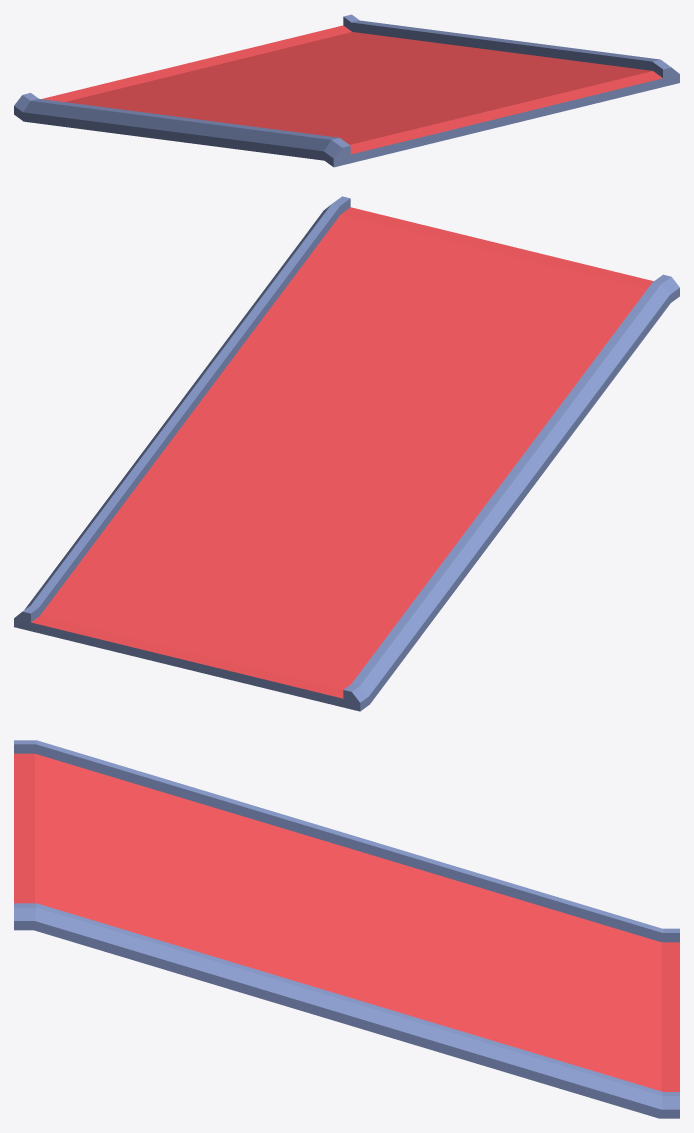
Rendered from tile-ramp.glb.
3 renders of one model, top to bottom at view 1: azimuth 30°, elevation 25°; view 2: azimuth 150°, elevation 25°; view 3: azimuth 270°, elevation 25°, orthographic. The views are drawn at different scales.
Visible parts, largest first — view 1: tile-ramp; view 2: tile-ramp; view 3: tile-ramp.
Boxes of the visible parts, box(x1,y1,x2,y2) form: tile-ramp: box(14, 14, 679, 167); tile-ramp: box(14, 196, 679, 711); tile-ramp: box(14, 740, 679, 1118).
Bounding box in the file's own units: 10 × 5.49 × 16.
